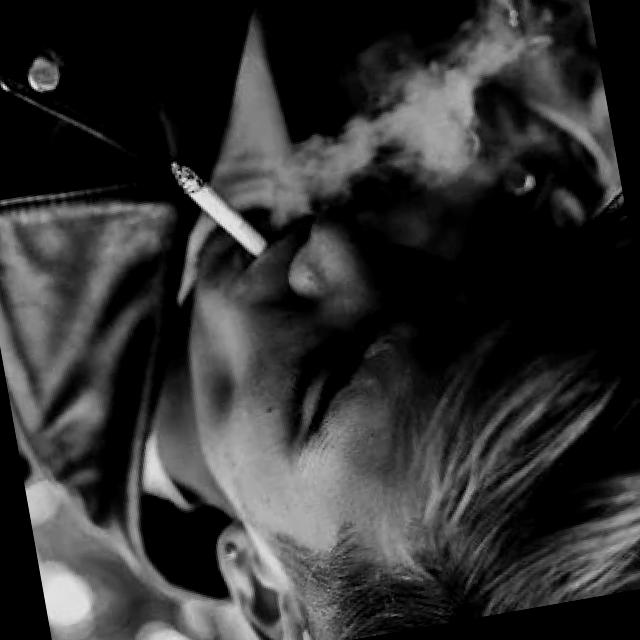smoke: (164, 142, 276, 275)
